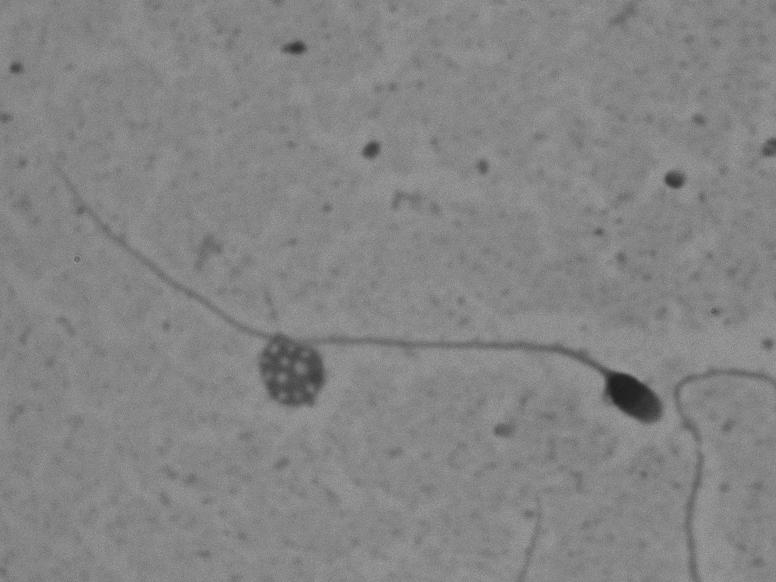Normal: (25, 145, 671, 445)
